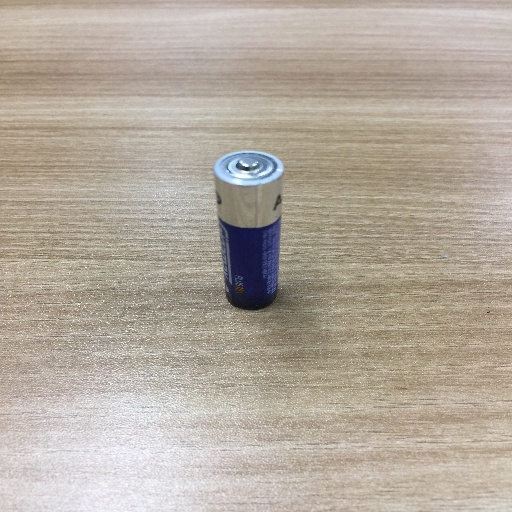Battery_0: (204, 135, 299, 329)
